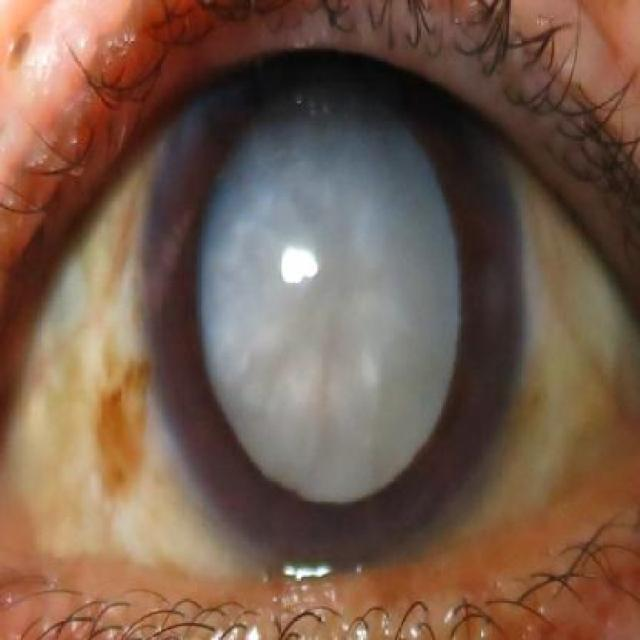Cataract: (144, 27, 522, 577)
